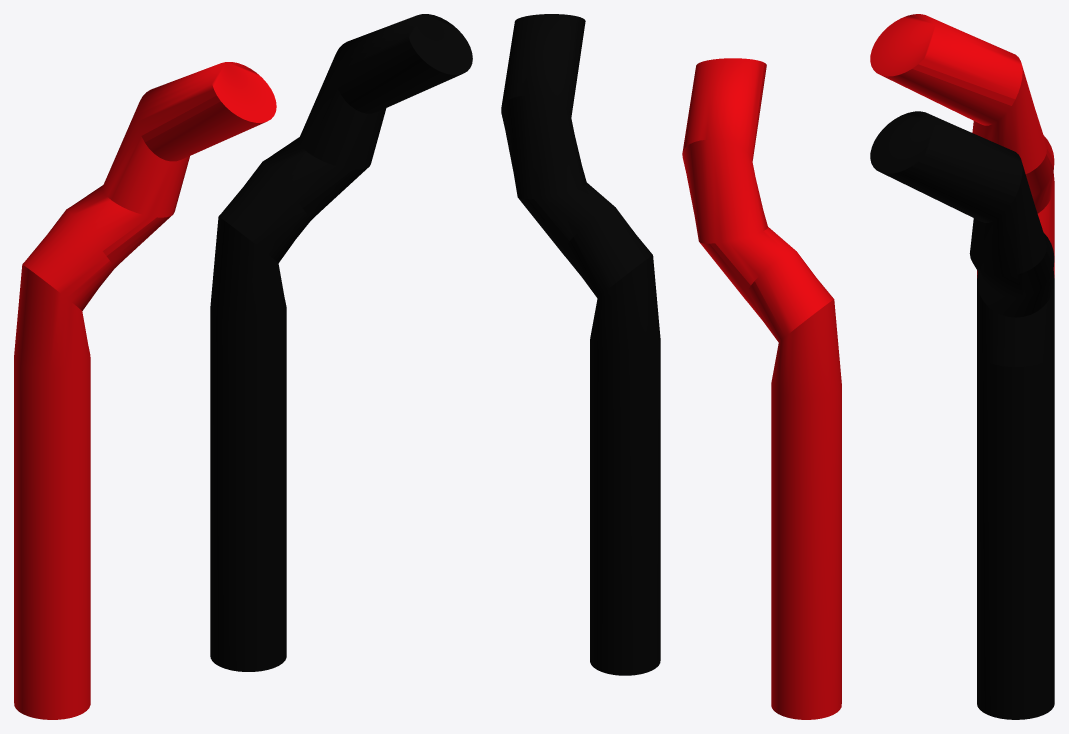
File: wires.fbx
3 views of the same model, side by side, from view 1: azimuth 30°, elevation 25°; view 2: azimuth 150°, elevation 25°; view 3: azimuth 270°, elevation 25° (orthographic). The views are drawn at different scales.
Visible parts, largest first — view 1: Cylinder.001, Cylinder; view 2: Cylinder, Cylinder.001; view 3: Cylinder.001, Cylinder.
Part boxes in pixels (x1,y1,x2,y2): Cylinder.001: (210, 14, 472, 671); Cylinder: (14, 62, 276, 719); Cylinder: (682, 58, 841, 719); Cylinder.001: (501, 14, 660, 675); Cylinder.001: (870, 111, 1054, 719); Cylinder: (870, 14, 1054, 277).
Bounding box in the file's own units: 240 × 368 × 94.78.
